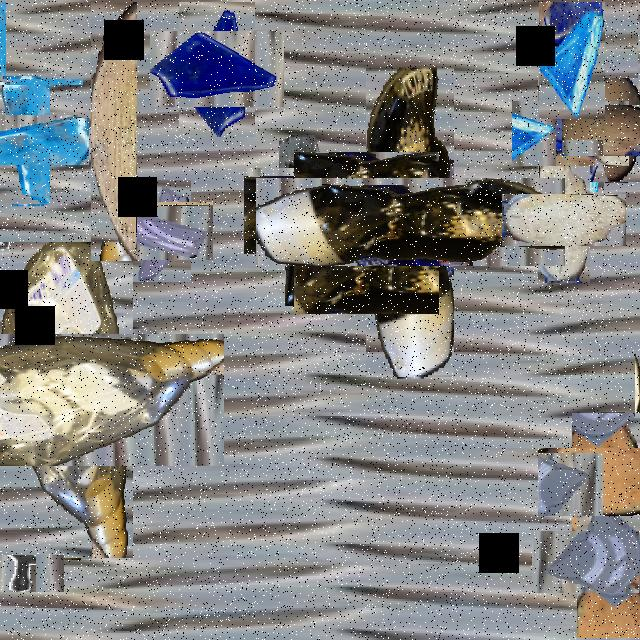glass: (260, 152, 380, 271), (125, 323, 209, 473), (164, 17, 270, 122), (554, 508, 640, 615), (525, 88, 617, 179), (539, 2, 605, 119), (122, 191, 202, 271), (0, 96, 69, 185), (0, 40, 44, 123)
metal: (0, 541, 50, 606), (615, 24, 640, 71)
plastic: (0, 287, 178, 512), (310, 123, 510, 321), (289, 156, 443, 310), (635, 304, 640, 496)
wood: (91, 2, 137, 261), (554, 430, 640, 533), (520, 176, 608, 265), (575, 91, 640, 168)
